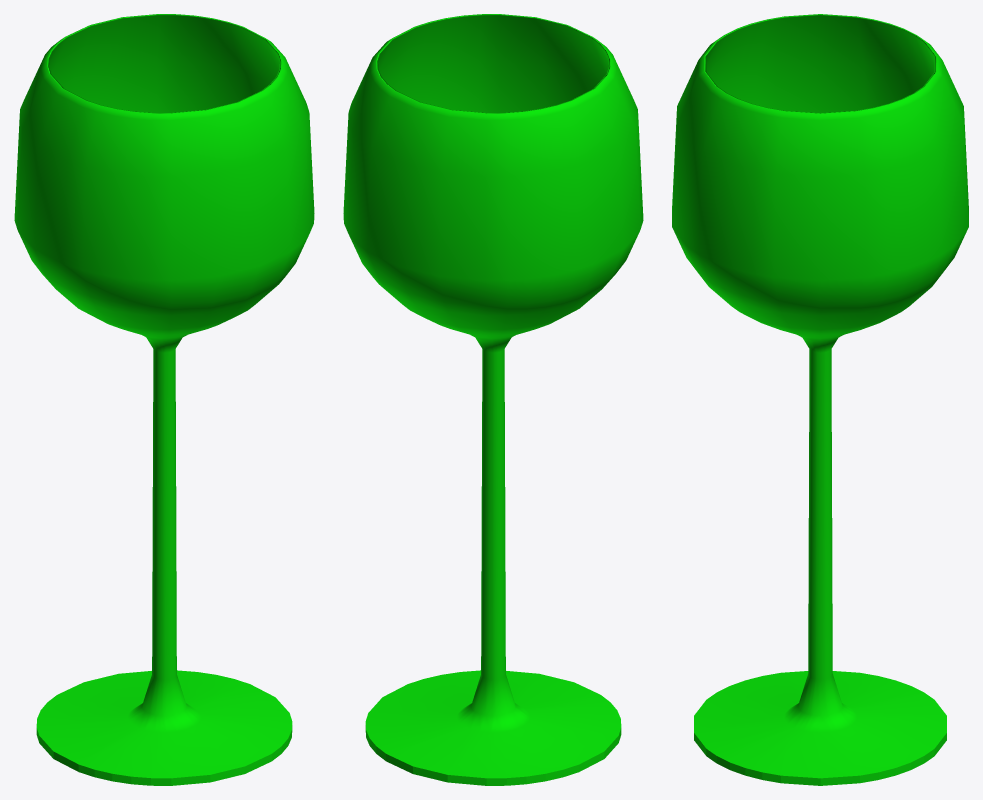
File: Glass9_LOD_2.fbx
3 views of the same model, side by side, from view 1: azimuth 30°, elevation 25°; view 2: azimuth 150°, elevation 25°; view 3: azimuth 270°, elevation 25° (orthographic).
Visible parts, largest first — view 1: Glass9_LOD_2; view 2: Glass9_LOD_2; view 3: Glass9_LOD_2.
Boxes of the visible parts, bbox=[...] form: Glass9_LOD_2: bbox=[14, 14, 314, 785]; Glass9_LOD_2: bbox=[343, 14, 643, 785]; Glass9_LOD_2: bbox=[672, 14, 968, 785].
Size of the model in its own units: 2.08 by 5.09 by 2.05.
